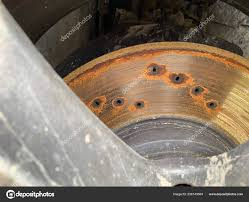rust: (65, 57, 116, 84), (116, 48, 203, 58), (143, 62, 167, 84), (85, 95, 110, 115), (172, 69, 190, 88), (205, 96, 222, 113), (188, 84, 207, 98), (112, 95, 127, 112), (134, 98, 148, 112)
